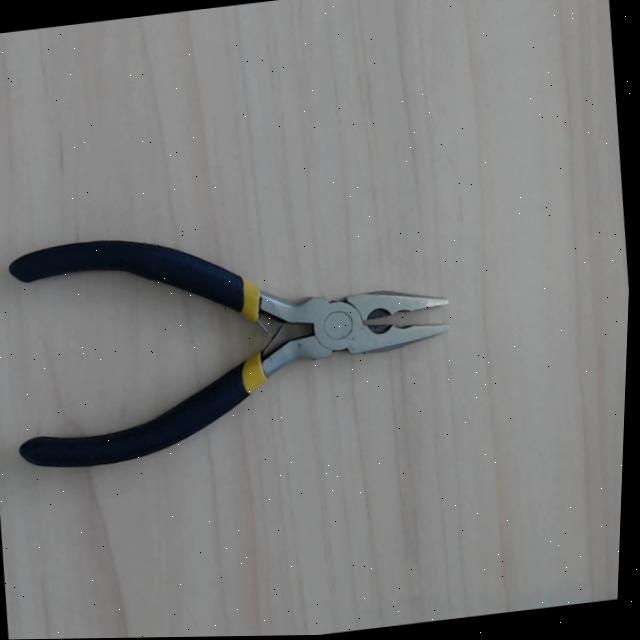Tang-Jepit-Hitam: (0, 205, 460, 471)
